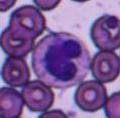N: (31, 31, 90, 88)
